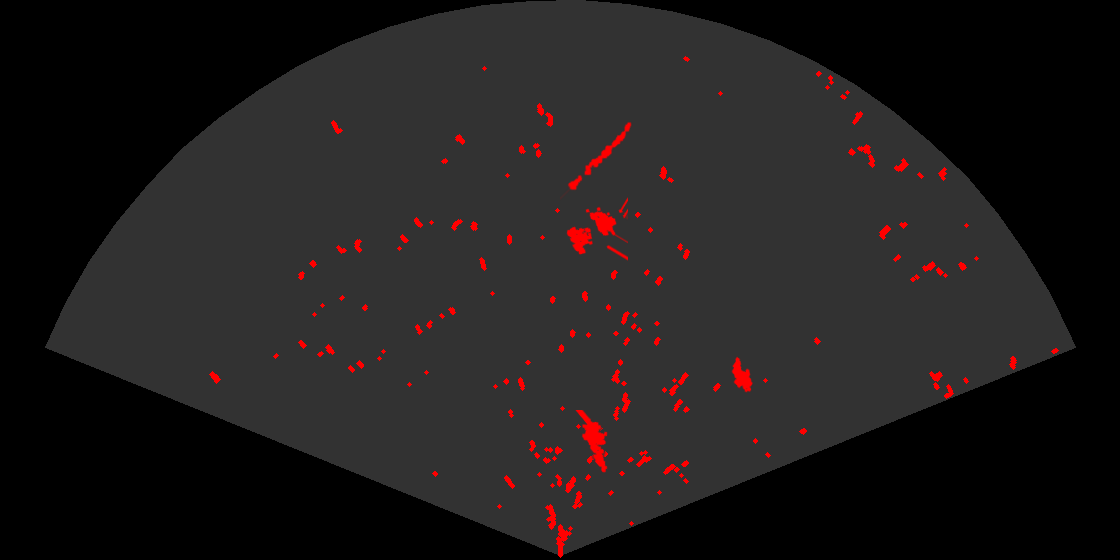AUV: (730, 355, 754, 394)
cage: (565, 196, 628, 262)
chain: (560, 120, 633, 201)
frogman: (574, 410, 609, 474)
